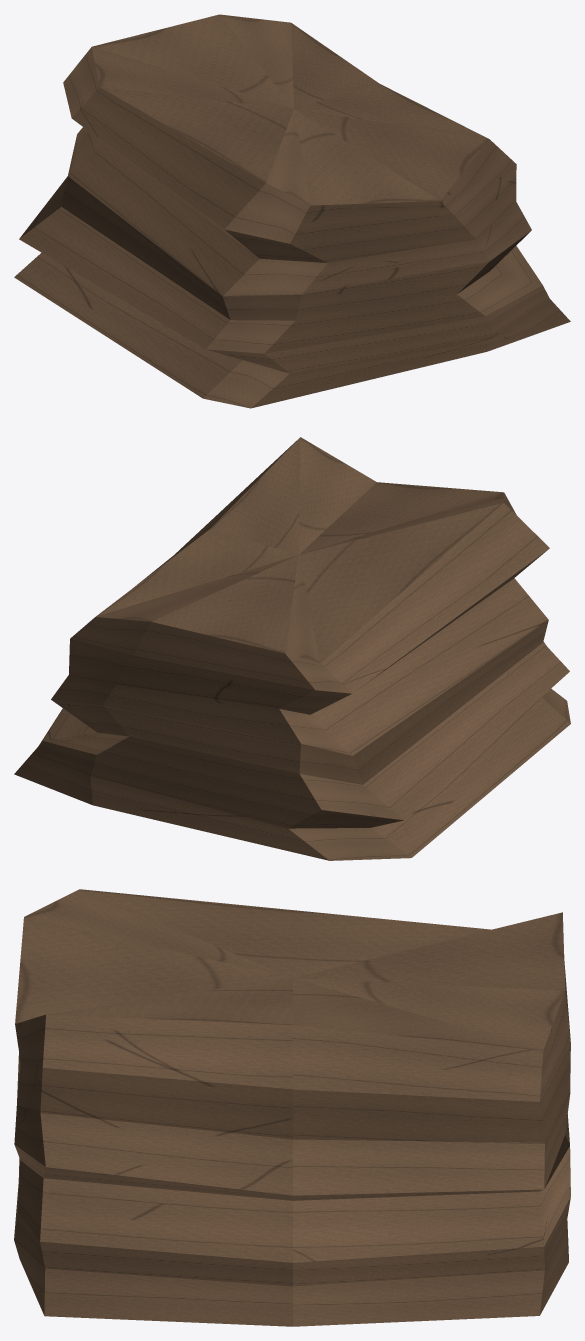
File: wash.glb
3 views of the same model, one above another, from view 1: azimuth 30°, elevation 25°; view 2: azimuth 150°, elevation 25°; view 3: azimuth 270°, elevation 25° (orthographic). The views are drawn at different scales.
Parts seen in each view (by area): view 1: wash-rock-module; view 2: wash-rock-module; view 3: wash-rock-module.
Part boxes in pixels (x1,y1,x2,y2): wash-rock-module: [14, 14, 570, 408]; wash-rock-module: [14, 437, 570, 860]; wash-rock-module: [14, 889, 570, 1326].
Bounding box in the file's own units: 2 × 0.9896 × 1.98.
Materials: 1 (1 with a texture image).
